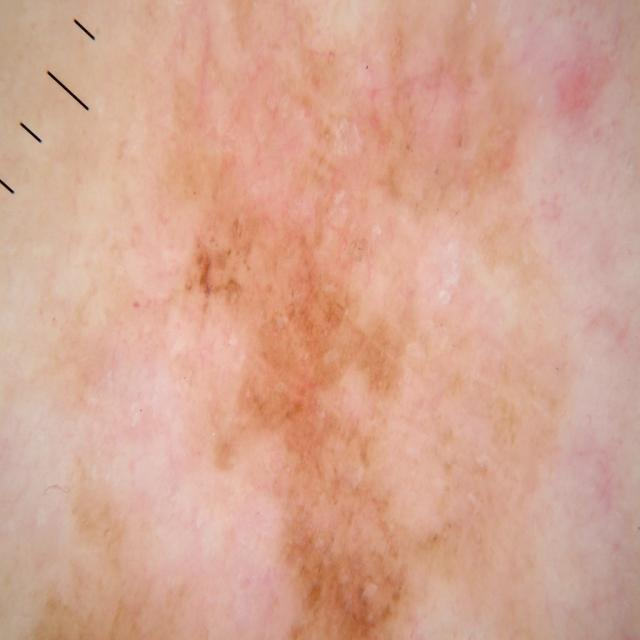Skin-Cancer Melanoma: (58, 47, 598, 640)
